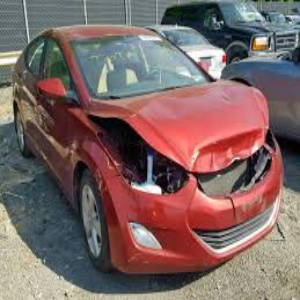bonnet: (121, 93, 275, 171)
